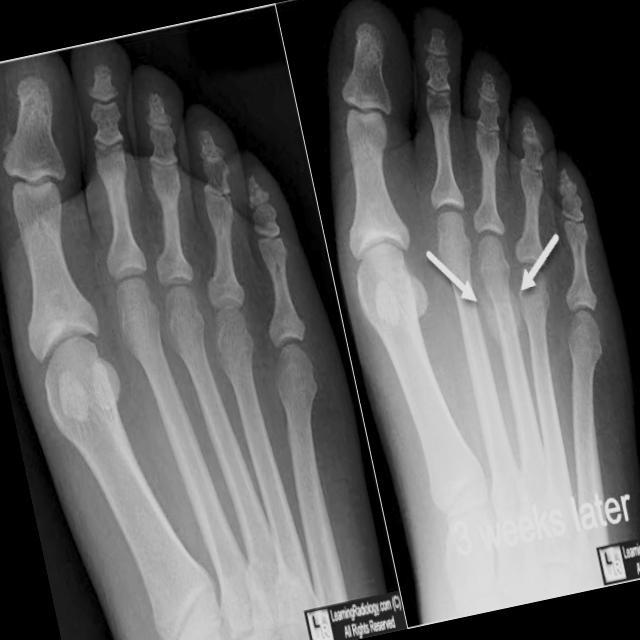HairLine Fracture: (480, 285, 519, 328)
